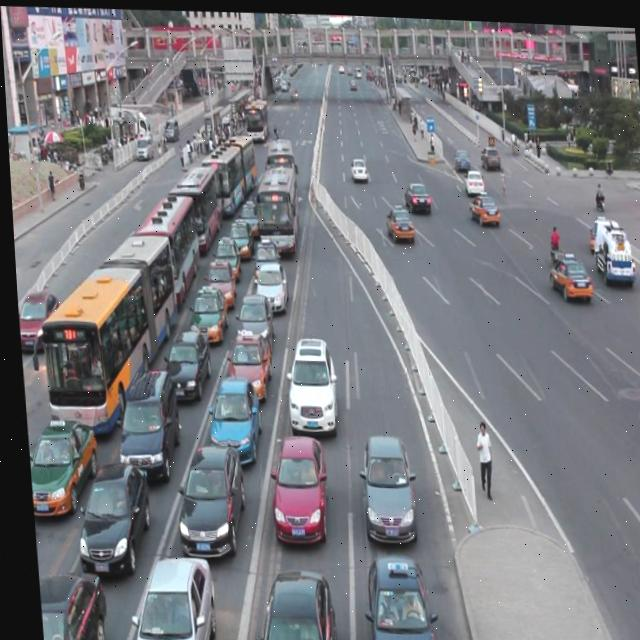bus: (588, 205, 631, 279)
car: (65, 456, 147, 566), (116, 546, 208, 640), (167, 434, 241, 550), (107, 360, 176, 470), (353, 548, 429, 640), (21, 413, 92, 511), (244, 562, 328, 640), (351, 426, 412, 532), (261, 429, 323, 530), (30, 562, 98, 640), (278, 329, 333, 425), (201, 368, 256, 452), (157, 319, 206, 393), (219, 323, 267, 392), (13, 287, 57, 349), (183, 279, 225, 336), (543, 245, 589, 297), (230, 287, 271, 345), (251, 253, 284, 303), (199, 251, 232, 299), (68, 284, 102, 325), (207, 229, 237, 272), (248, 229, 275, 274), (464, 185, 496, 222), (382, 200, 411, 237), (232, 191, 260, 229), (223, 210, 249, 249), (400, 176, 428, 208), (584, 208, 606, 245), (460, 163, 481, 192), (477, 139, 497, 166), (347, 153, 365, 179), (449, 142, 467, 165)
van: (18, 225, 180, 430), (125, 184, 198, 300), (197, 121, 254, 205), (252, 161, 298, 255), (170, 155, 217, 244), (263, 135, 296, 188)
